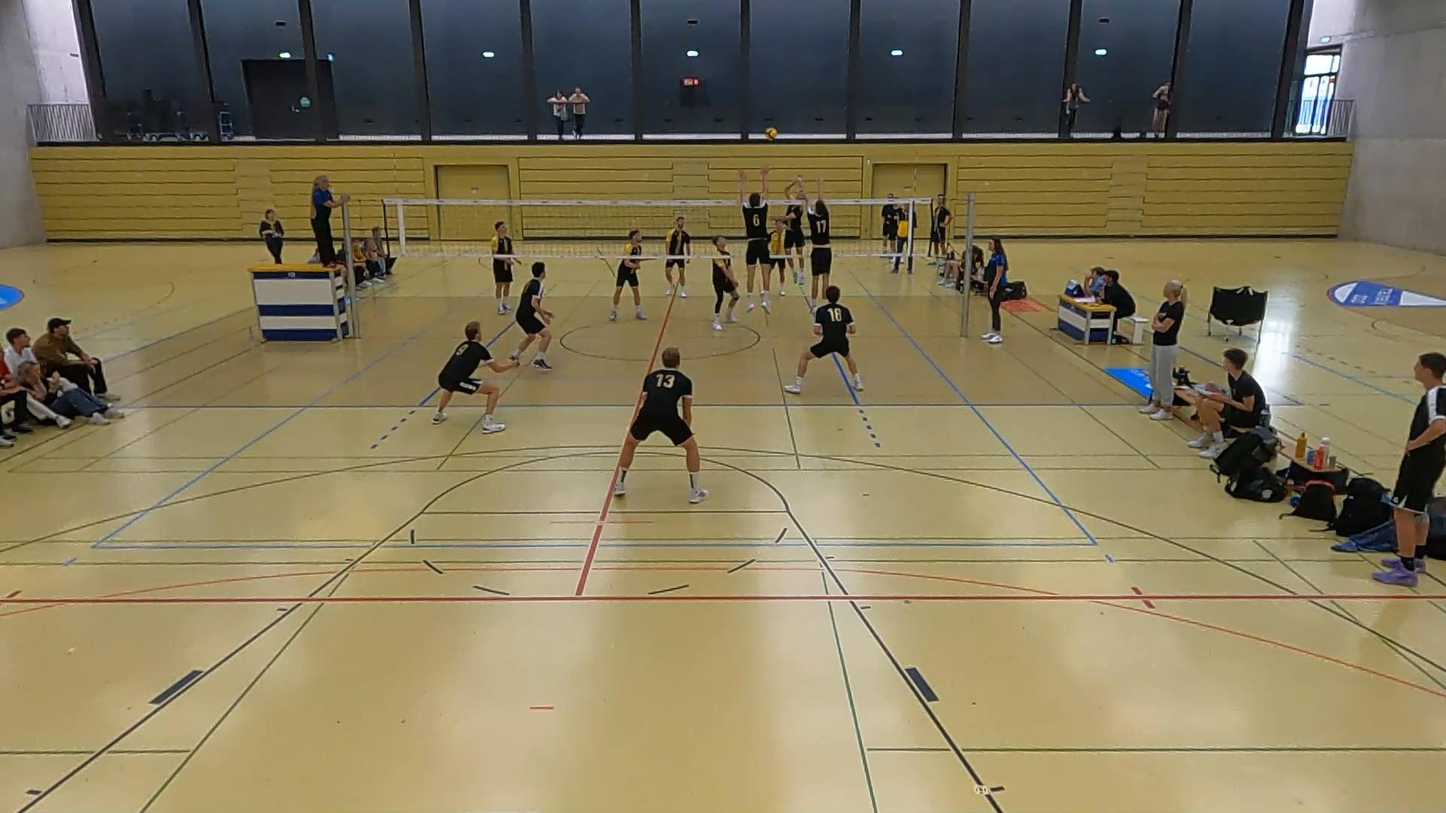Attack: (767, 169, 812, 287)
Block: (792, 159, 840, 321), (734, 163, 782, 320)
Player: (614, 347, 708, 503), (432, 321, 518, 433), (784, 285, 863, 394), (510, 262, 553, 370), (609, 229, 645, 321), (490, 221, 519, 314), (712, 235, 739, 330), (664, 215, 691, 297), (762, 216, 786, 295)
ball: (766, 124, 778, 141)
